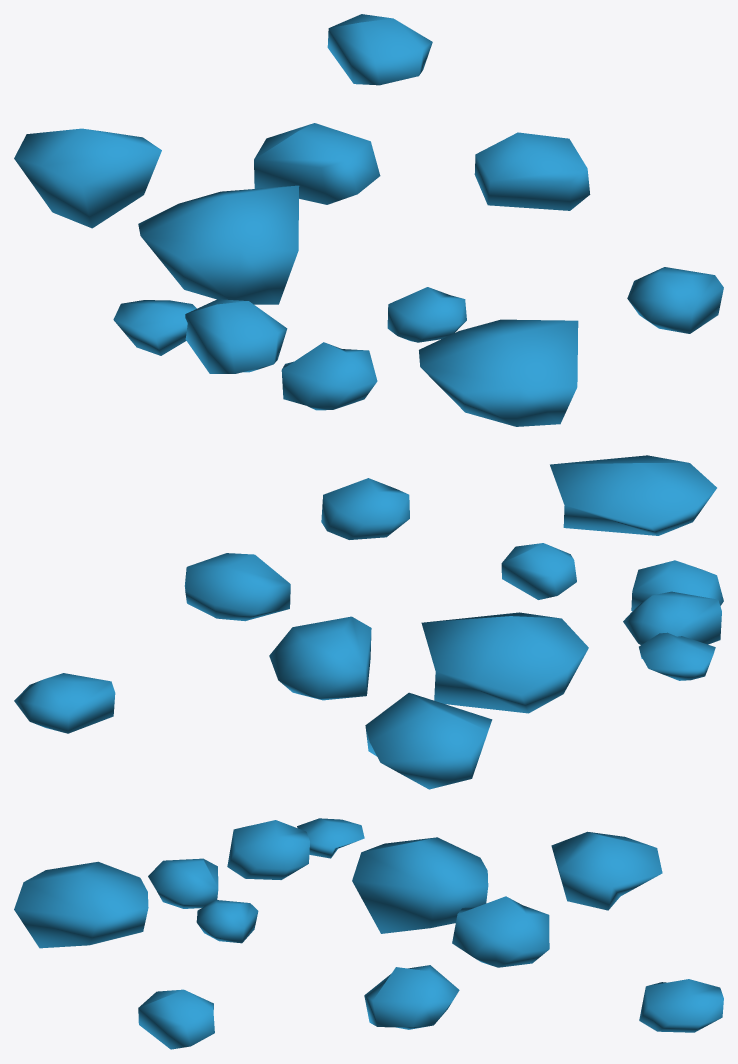
The model's file is Scree_S_01.fbx.
3 renders of one model, top to bottom at view 1: azimuth 30°, elevation 25°; view 2: azimuth 150°, elevation 25°; view 3: azimuth 270°, elevation 25°, orthographic. The views are drawn at different scales.
Parts seen in each view (by area): view 1: Scree_S_01; view 2: Scree_S_01; view 3: Scree_S_01.
Part boxes in pixels (x1,y1,x2,y2): Scree_S_01: [14, 14, 723, 426]; Scree_S_01: [14, 455, 723, 789]; Scree_S_01: [14, 818, 723, 1049].
Size of the model in its own units: 459 by 83.71 by 666.
